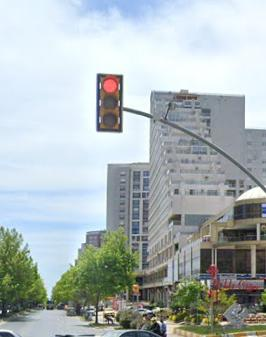redlight: (98, 72, 122, 132)
